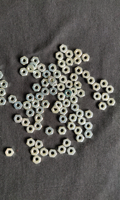nut: (31, 148, 40, 157), (67, 147, 76, 156), (63, 139, 72, 148), (21, 118, 30, 127), (8, 95, 17, 104), (65, 89, 74, 98), (82, 70, 91, 79), (59, 75, 68, 84), (53, 70, 62, 79), (62, 66, 71, 75), (21, 56, 29, 66), (5, 149, 14, 157), (33, 156, 41, 165), (40, 148, 48, 157), (58, 146, 67, 154), (35, 140, 43, 149), (27, 138, 35, 147), (14, 115, 23, 123), (26, 125, 35, 133), (34, 123, 43, 131), (46, 127, 54, 136), (58, 127, 67, 135), (76, 135, 85, 143), (84, 131, 93, 139), (74, 127, 83, 135), (78, 117, 86, 126), (34, 115, 43, 123), (26, 109, 35, 117), (23, 101, 31, 110), (14, 102, 23, 110), (0, 80, 8, 89), (59, 116, 68, 124), (69, 114, 78, 122), (76, 109, 84, 118), (85, 111, 94, 119), (36, 106, 44, 115), (32, 100, 40, 109), (52, 106, 61, 114), (63, 99, 71, 108), (71, 103, 79, 112), (26, 94, 35, 102), (41, 88, 50, 96), (50, 87, 58, 96), (57, 93, 66, 101), (70, 74, 79, 82), (75, 66, 83, 75), (87, 77, 96, 85), (100, 80, 109, 88), (106, 86, 115, 94), (107, 98, 116, 106), (99, 102, 107, 111), (66, 80, 74, 89), (48, 76, 56, 85), (41, 79, 50, 87), (43, 70, 51, 79), (49, 64, 57, 73), (33, 70, 41, 79), (38, 64, 46, 73), (20, 68, 28, 77), (27, 65, 36, 73), (30, 61, 38, 70), (31, 57, 40, 65), (58, 59, 66, 68), (66, 58, 75, 66), (56, 52, 64, 61), (60, 44, 68, 53), (65, 50, 74, 58), (74, 49, 83, 57), (49, 150, 57, 158), (68, 123, 76, 131), (85, 122, 93, 130), (42, 101, 50, 109), (60, 107, 68, 115), (55, 101, 63, 109), (36, 93, 44, 101), (33, 84, 41, 92), (70, 96, 78, 104), (70, 88, 78, 96), (78, 90, 86, 98), (74, 82, 82, 90), (93, 83, 101, 91), (94, 93, 102, 101), (102, 93, 110, 101), (74, 57, 82, 65), (82, 54, 90, 62), (58, 83, 65, 92), (50, 80, 58, 87), (0, 88, 6, 97), (0, 98, 6, 106), (0, 71, 4, 80)
